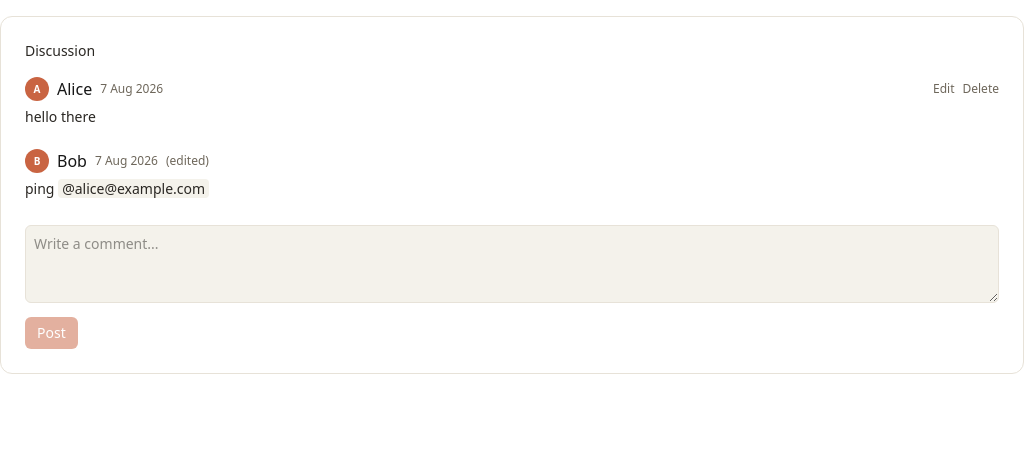
Scenario: TaskComments › posts a comment and reloads the list
This screenshot has width=1024, height=463.
In the text box with placeholder "Write a comment...": (512, 264) [25,225,999,303], type "my reply"
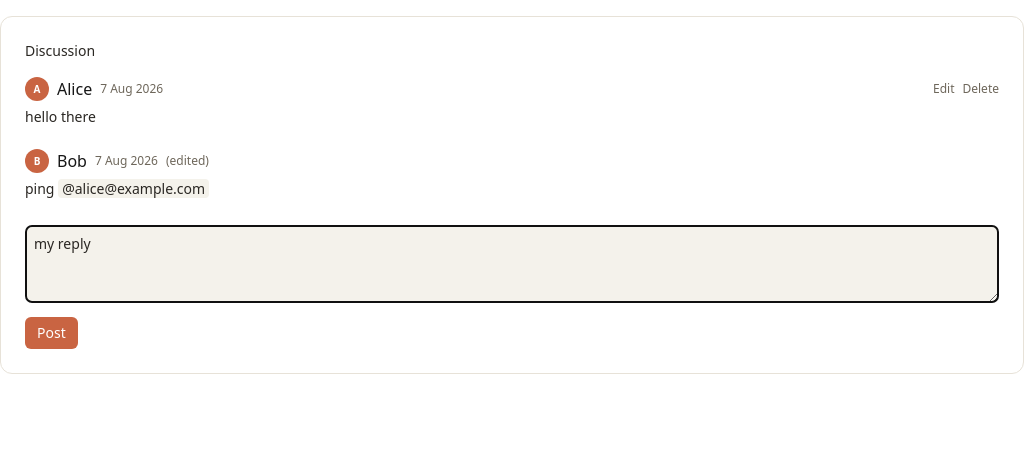
Click the button "Post": (51, 333) [25,317,78,349]
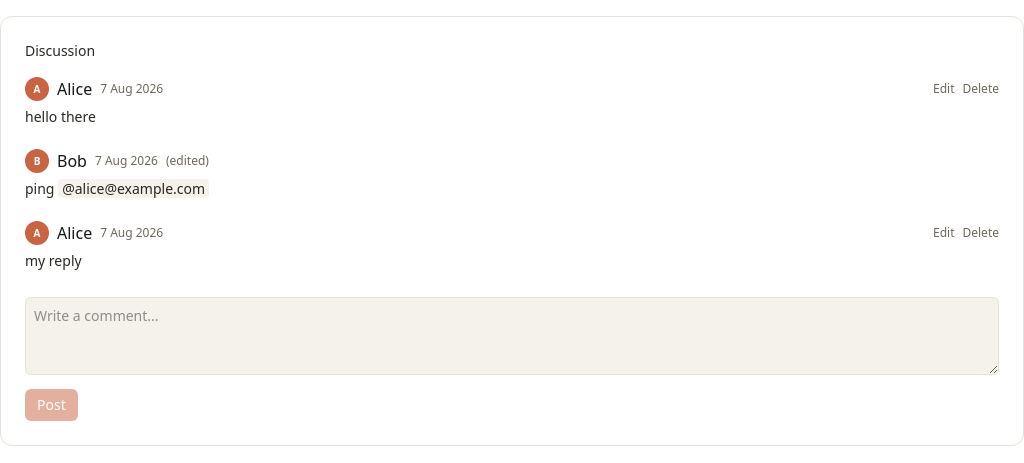
Expected: the text "my reply" is shown, [25,251,82,270]
